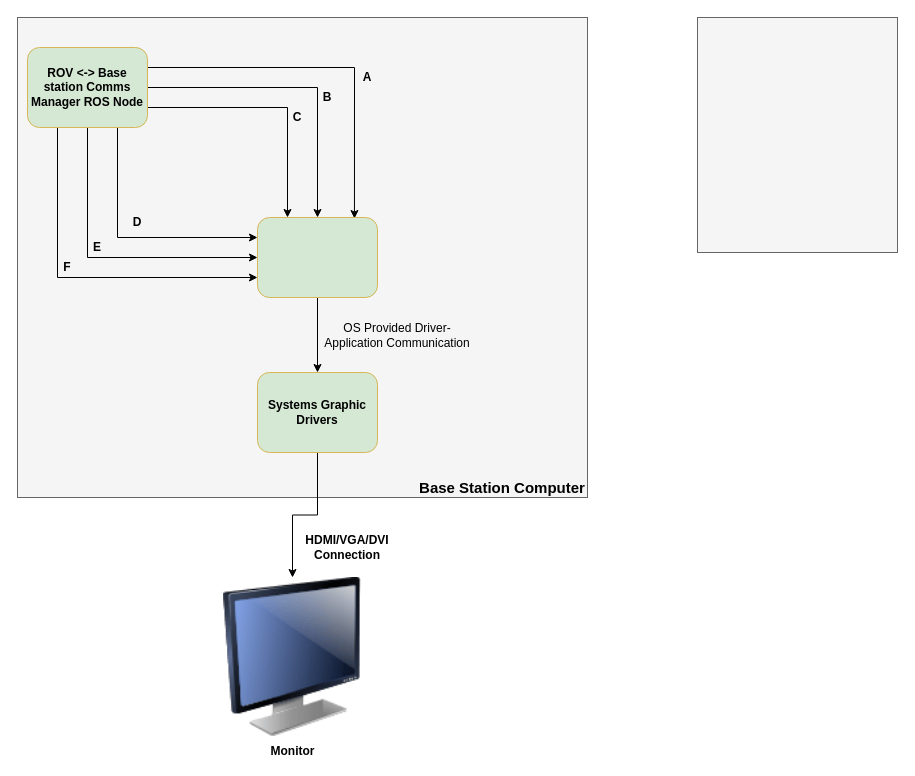
The diagram is 915 pixels wide and 776 high, and some of its shapes have lost their labels. The shapes that lost their labels are listed below. From the top down, each one's centre as x and y in pixels, then its label:
point 797,134: Key
point 317,257: * HUD Image Generation Program
